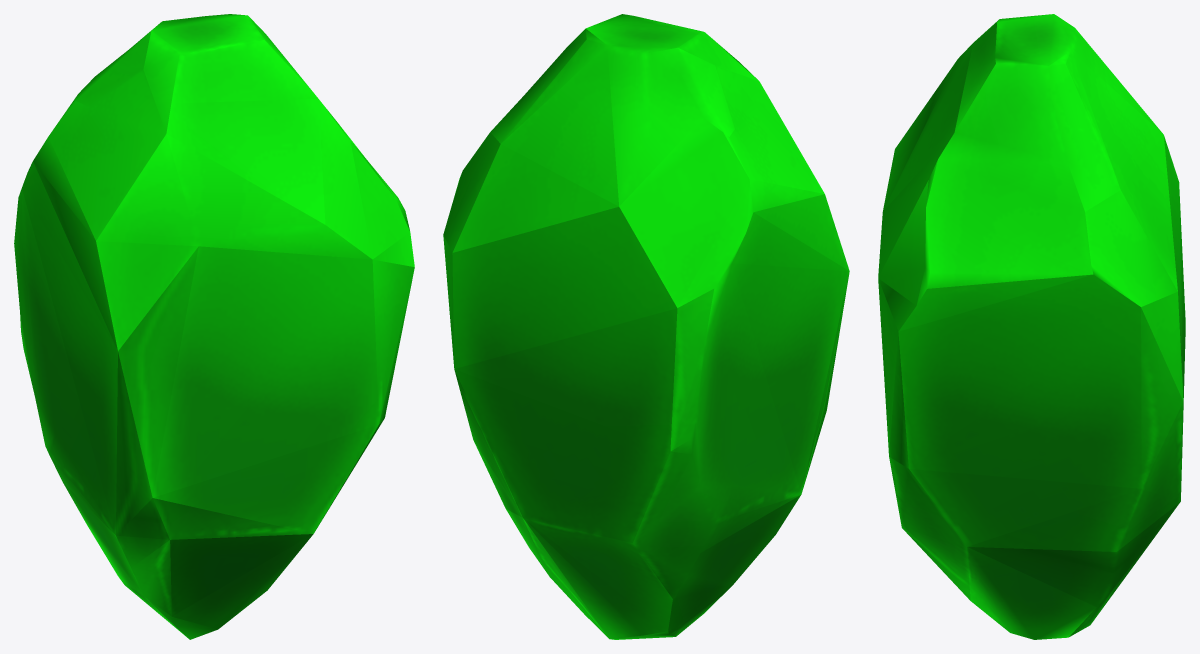
Rendered from 无限宝石.fbx.
The picture shows the model from 3 angles, left to right: view 1: azimuth 30°, elevation 25°; view 2: azimuth 150°, elevation 25°; view 3: azimuth 270°, elevation 25°; orthographic projection.
Parts seen in each view (by area): view 1: PolySphere; view 2: PolySphere; view 3: PolySphere.
Part boxes in pixels (box(x1,y1,x2,y2)): PolySphere: box(14, 14, 414, 639); PolySphere: box(443, 14, 849, 639); PolySphere: box(878, 14, 1185, 639).
Bounding box in the file's own units: 17.52 × 33.78 × 15.58.
